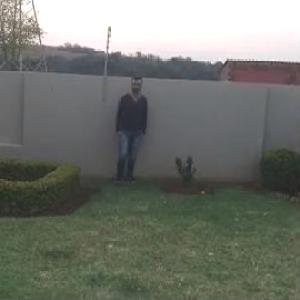follow: (113, 72, 149, 189)
